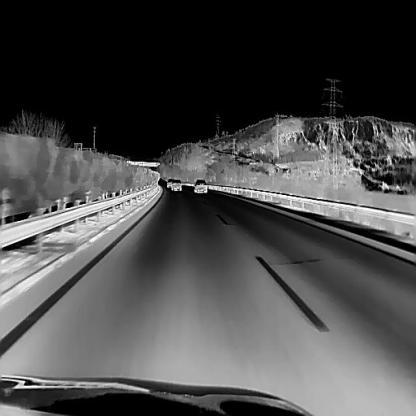car: (193, 179, 207, 192), (171, 179, 181, 189), (166, 177, 173, 187)
